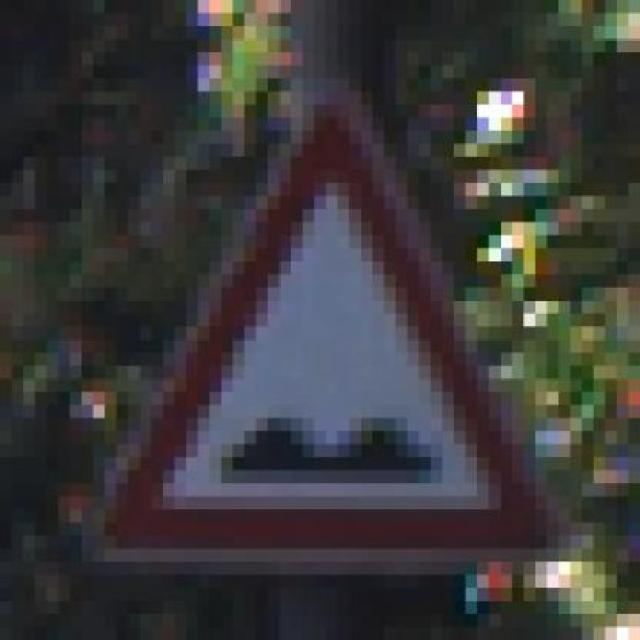Uneven Road: (80, 66, 569, 574)
